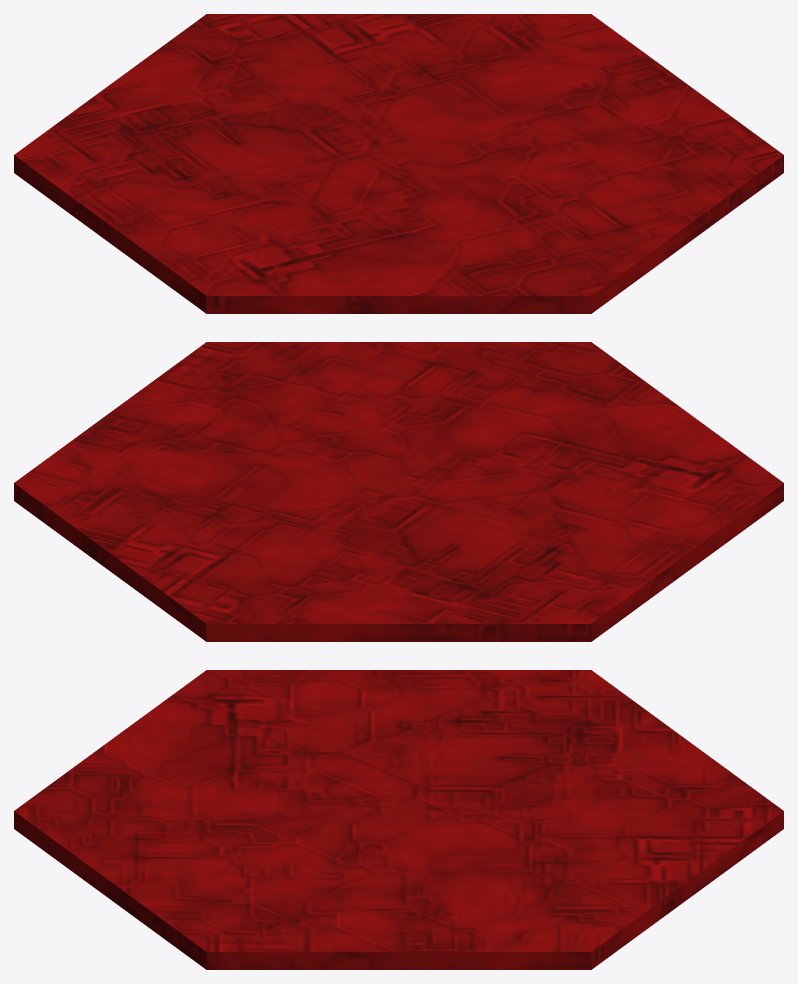
File: NodeSpawner.glb
3 renders of one model, top to bottom at view 1: azimuth 30°, elevation 25°; view 2: azimuth 150°, elevation 25°; view 3: azimuth 270°, elevation 25°, orthographic.
Parts seen in each view (by area): view 1: hexagon_ring; view 2: hexagon_ring; view 3: hexagon_ring.
Part boxes in pixels (x1,y1,x2,y2): hexagon_ring: (14, 14, 783, 313); hexagon_ring: (14, 342, 783, 641); hexagon_ring: (14, 670, 783, 969).
Size of the model in its own units: 0.8401 by 0.025 by 0.97.
1 material, 1 textured.
